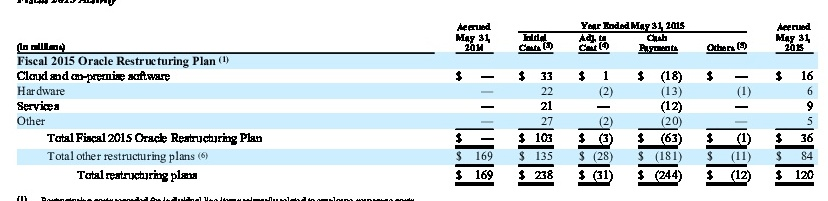table: (0, 0, 828, 201)
